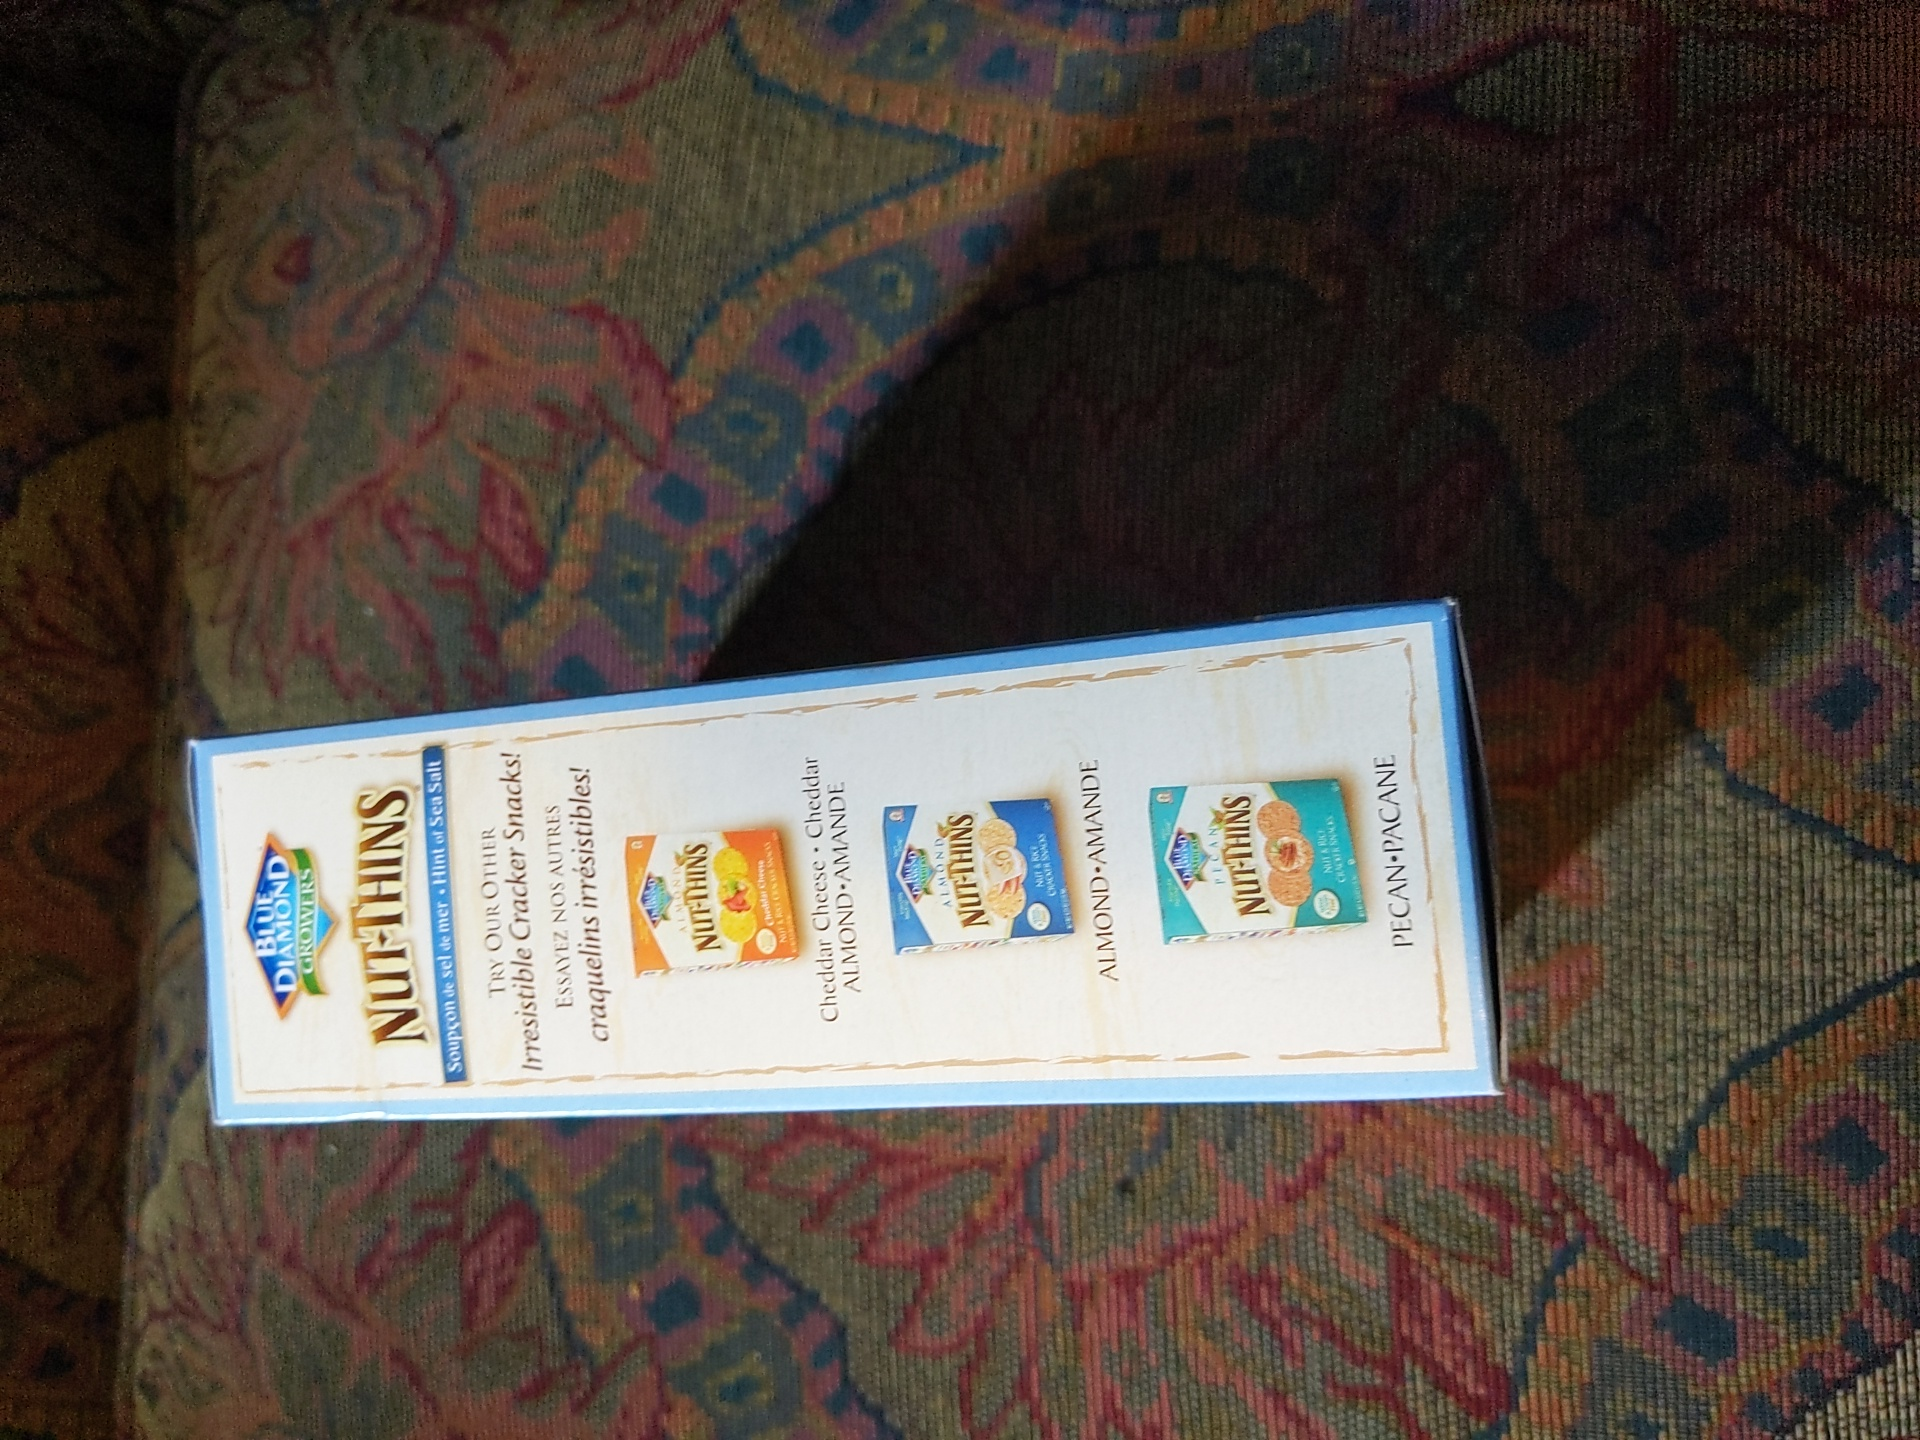blue_diamond_nut_thins_almond_seasalt: (215, 675, 1488, 1122)
